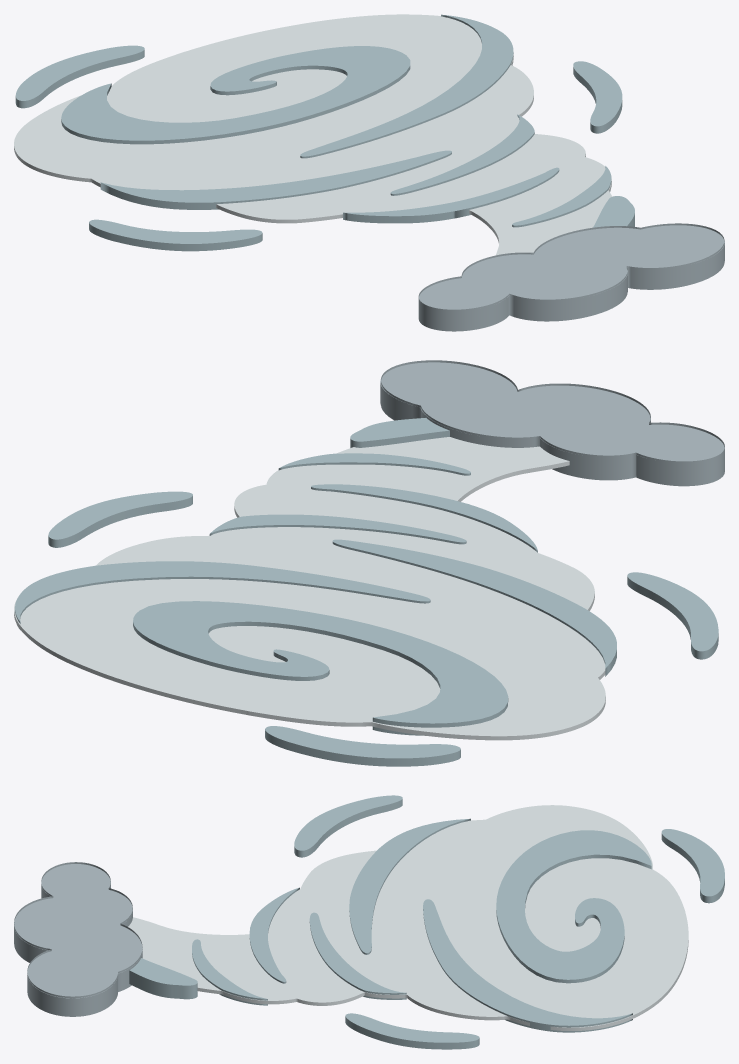
Rendered from emoji_u1f32a.glb.
3 views of the same model, one above another, from view 1: azimuth 30°, elevation 25°; view 2: azimuth 150°, elevation 25°; view 3: azimuth 270°, elevation 25° (orthographic). The views are drawn at different scales.
Parts seen in each view (by area): view 1: emoji_u1f32a; view 2: emoji_u1f32a; view 3: emoji_u1f32a.
Boxes of the visible parts, x1=… form: emoji_u1f32a: x1=14, y1=14, x2=724, y2=331; emoji_u1f32a: x1=14, y1=360, x2=724, y2=766; emoji_u1f32a: x1=14, y1=795, x2=724, y2=1049.
Size of the model in its own units: 0.0312 by 0.0012 by 0.038.
